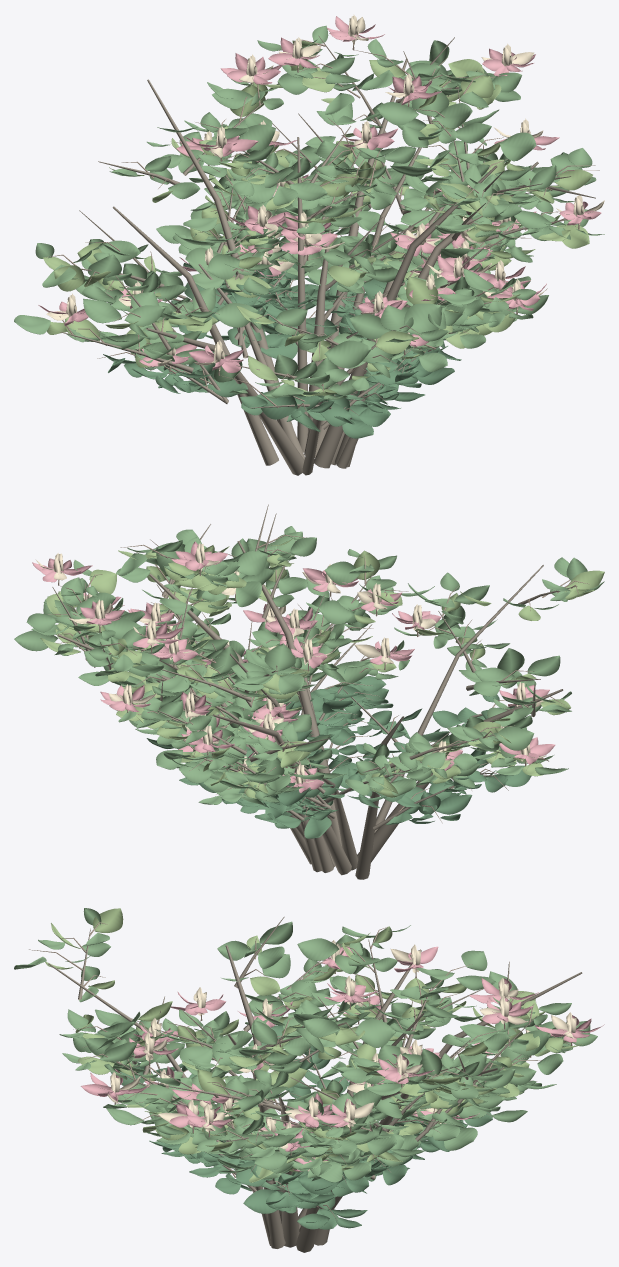
3 renders of one model, top to bottom at view 1: azimuth 30°, elevation 25°; view 2: azimuth 150°, elevation 25°; view 3: azimuth 270°, elevation 25°, orthographic. The views are drawn at different scales.
Visible parts, largest first — view 1: bush_flowers; view 2: bush_flowers; view 3: bush_flowers.
Boxes of the visible parts, x1,y1,x2,y2 form: bush_flowers: [14, 14, 604, 475]; bush_flowers: [14, 504, 604, 879]; bush_flowers: [14, 908, 604, 1252].
Size of the model in its own units: 3.13 by 1.85 by 3.09.
